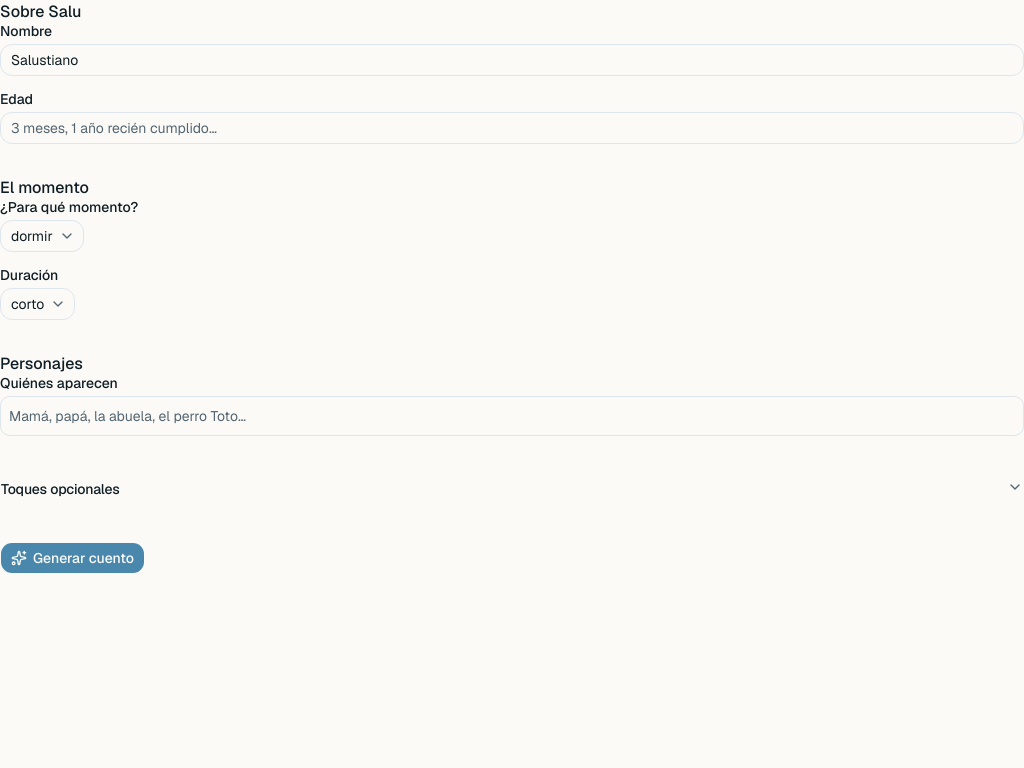
Test: StoryForm › estado success renderiza StoryResult
Type "3 meses" into the field labelled "Edad".
click(512, 128); type("3 meses")  # box [0,112,1023,144]
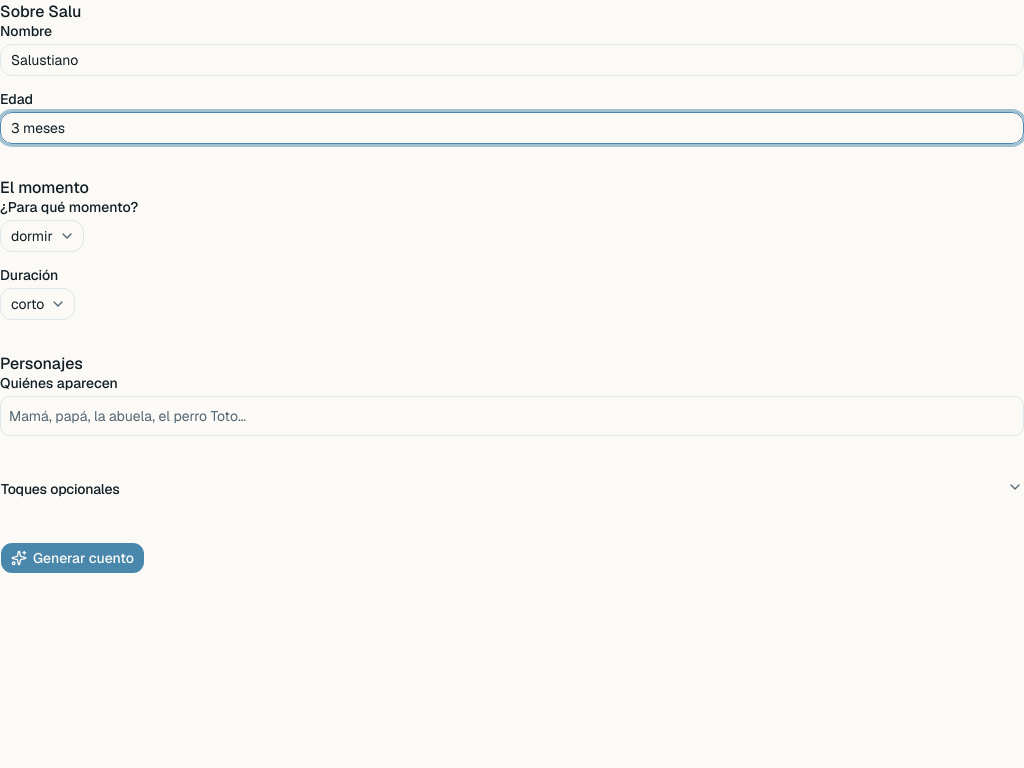
Type "mamá" into the field labelled "Quiénes aparecen".
click(512, 416); type("mamá")  # box [9,406,1015,426]
Then press Enter
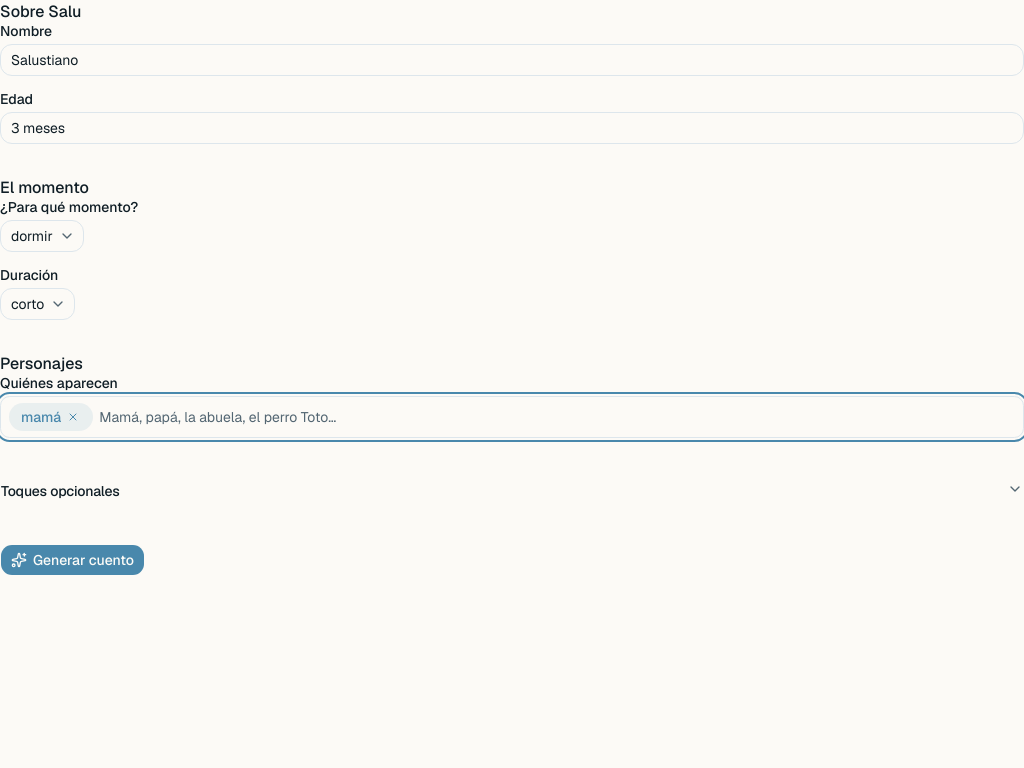
Click the button "Generar cuento".
click(73, 560)  # box [0,544,145,576]
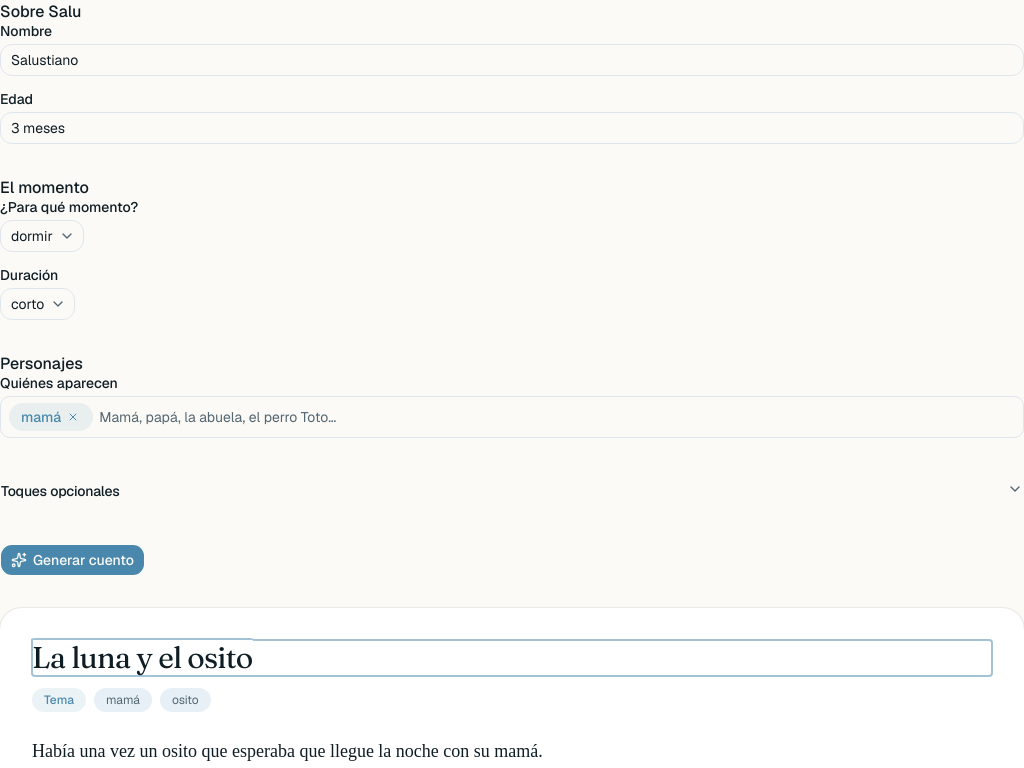
expect the heading "La luna y el osito" is shown: met, box [32,639,252,676]
